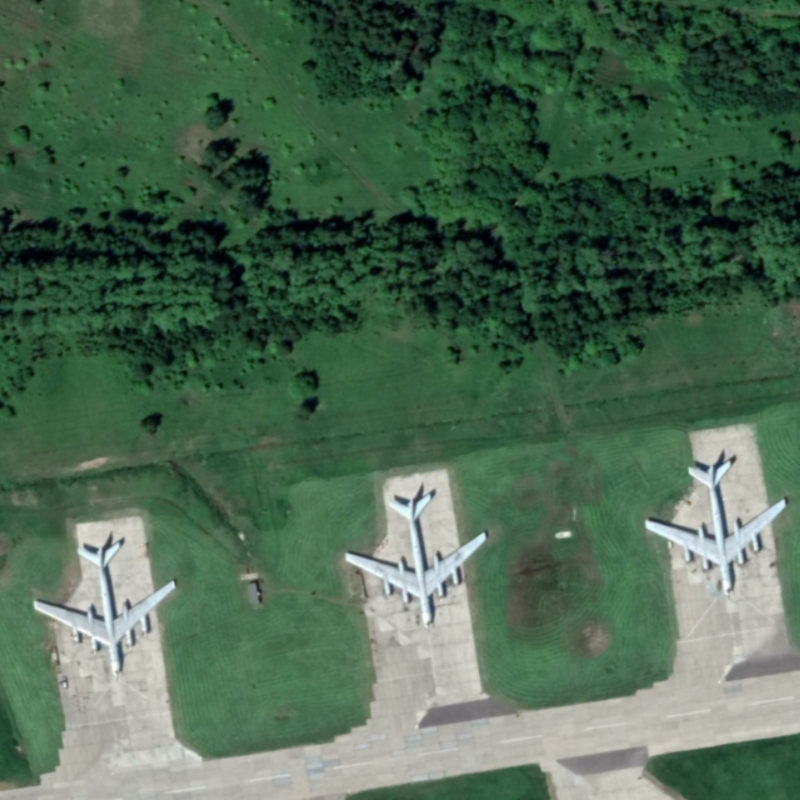A17: (31, 539, 179, 679), (642, 458, 790, 595), (342, 491, 489, 628)
